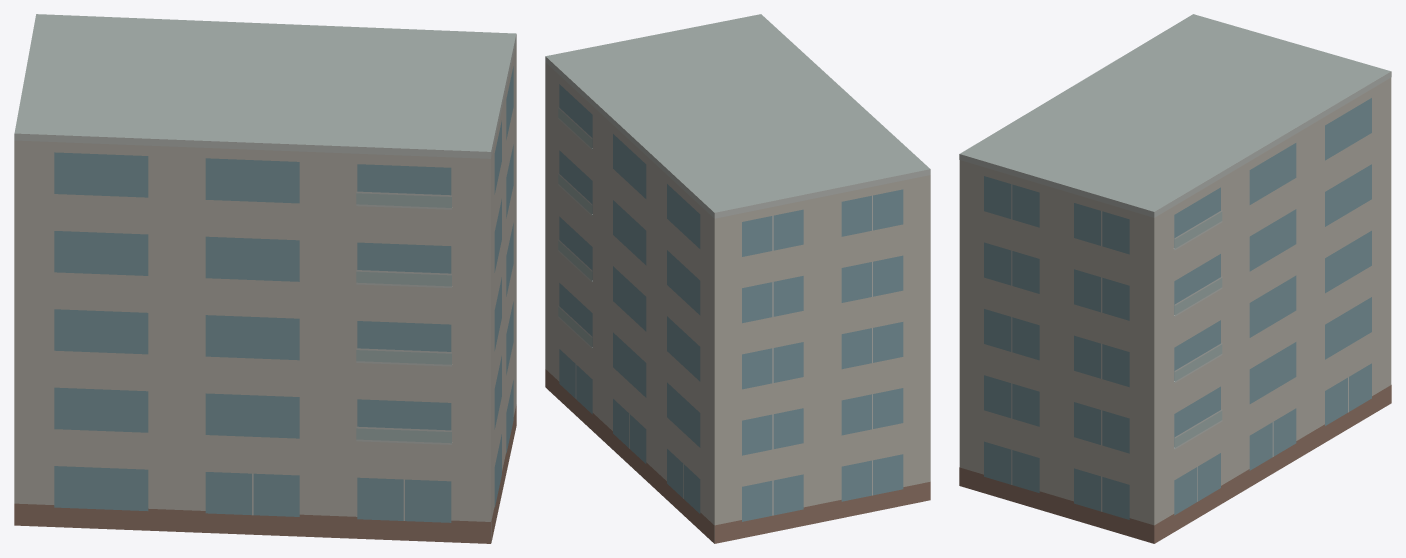
The model's file is survey-upis-32540872.glb.
3 renders of one model, left to right at view 1: azimuth 30°, elevation 25°; view 2: azimuth 150°, elevation 25°; view 3: azimuth 270°, elevation 25°, orthographic. The views are drawn at different scales.
Parts seen in each view (by area): view 1: survey-upis-32540872.tmp; view 2: survey-upis-32540872.tmp; view 3: survey-upis-32540872.tmp.
Boxes of the visible parts, <box> form: survey-upis-32540872.tmp: <box>14,14,516,543</box>; survey-upis-32540872.tmp: <box>545,14,930,543</box>; survey-upis-32540872.tmp: <box>959,14,1391,543</box>.
Bounding box in the file's own units: 17.53 × 13.7 × 16.17.
